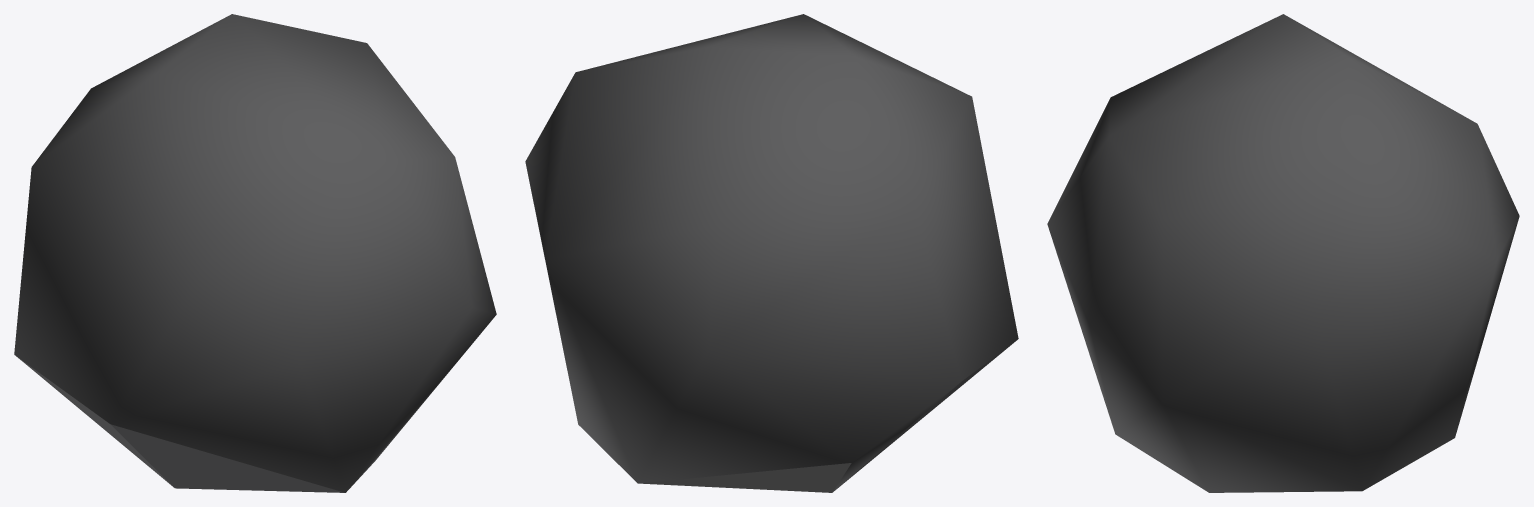
Rendered from cannon_ball.fbx.
3 views of the same model, side by side, from view 1: azimuth 30°, elevation 25°; view 2: azimuth 150°, elevation 25°; view 3: azimuth 270°, elevation 25° (orthographic). The views are drawn at different scales.
Parts seen in each view (by area): view 1: Cannon_Ball_1.024; view 2: Cannon_Ball_1.024; view 3: Cannon_Ball_1.024.
Part boxes in pixels (x1,y1,x2,y2): Cannon_Ball_1.024: [14, 14, 496, 492]; Cannon_Ball_1.024: [525, 14, 1018, 492]; Cannon_Ball_1.024: [1047, 14, 1519, 492].
Size of the model in its own units: 0.9003 by 0.8722 by 0.8905.
1 material, 1 textured.
